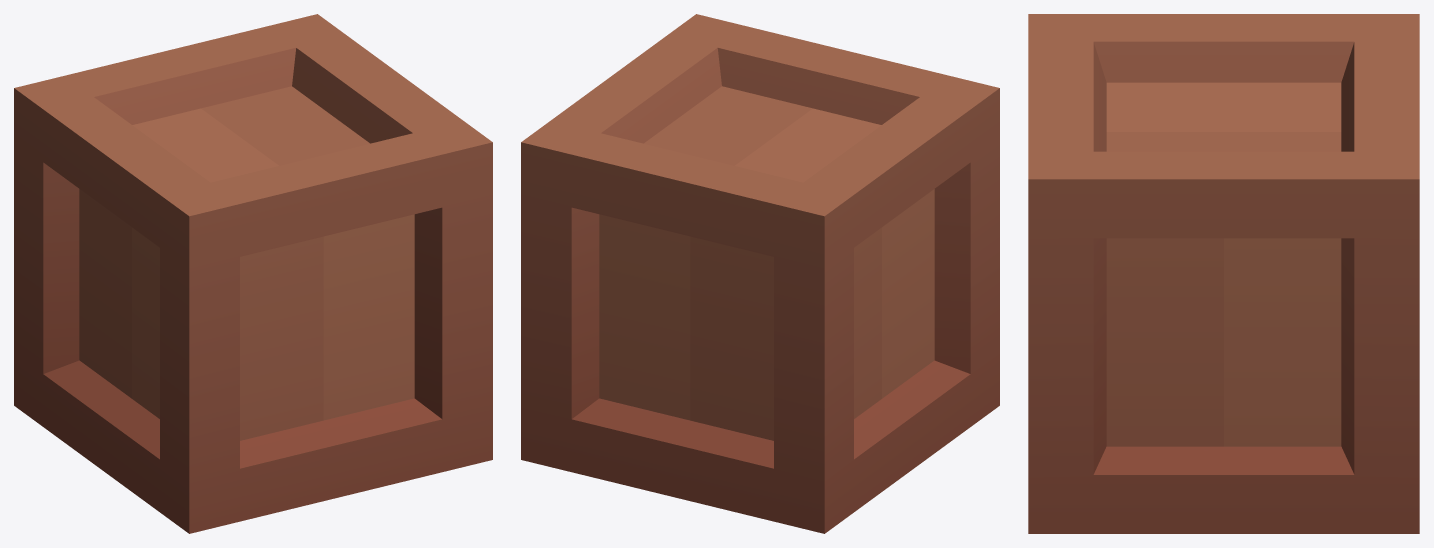
Rendered from crate_A_big.gltf.
The picture shows the model from 3 angles, left to right: view 1: azimuth 30°, elevation 25°; view 2: azimuth 150°, elevation 25°; view 3: azimuth 270°, elevation 25°; orthographic projection. The views are drawn at different scales.
Visible parts, largest first — view 1: crate_A_big; view 2: crate_A_big; view 3: crate_A_big.
Boxes of the visible parts, x1=… form: crate_A_big: x1=14, y1=14, x2=492, y2=533; crate_A_big: x1=521, y1=14, x2=999, y2=533; crate_A_big: x1=1028, y1=14, x2=1419, y2=533.
Bounding box in the file's own units: 0.21 × 0.21 × 0.21.
Materials: 1 (1 with a texture image).
